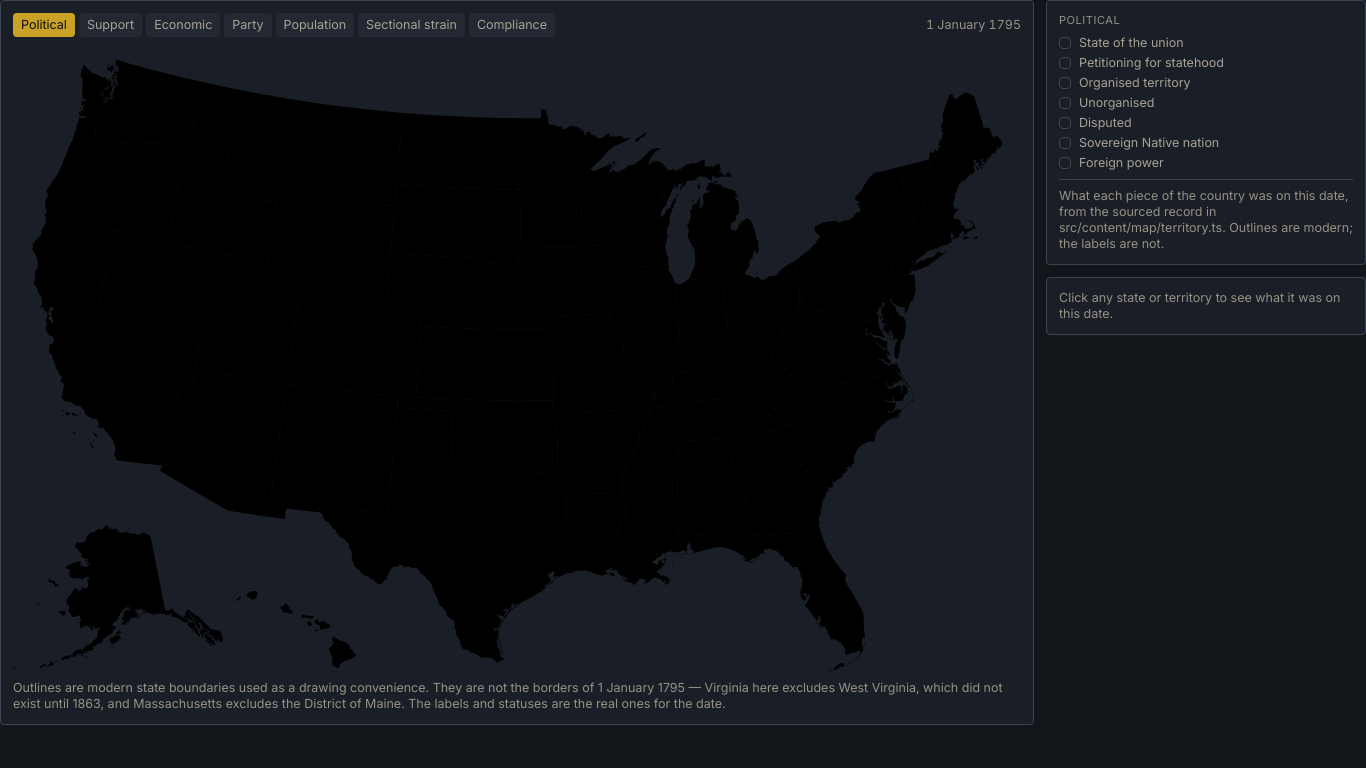
Test: the map states its own inaccuracy › says what each mode is actually measuring
Click the button "Support" at [110, 25], box [79,13,142,37]
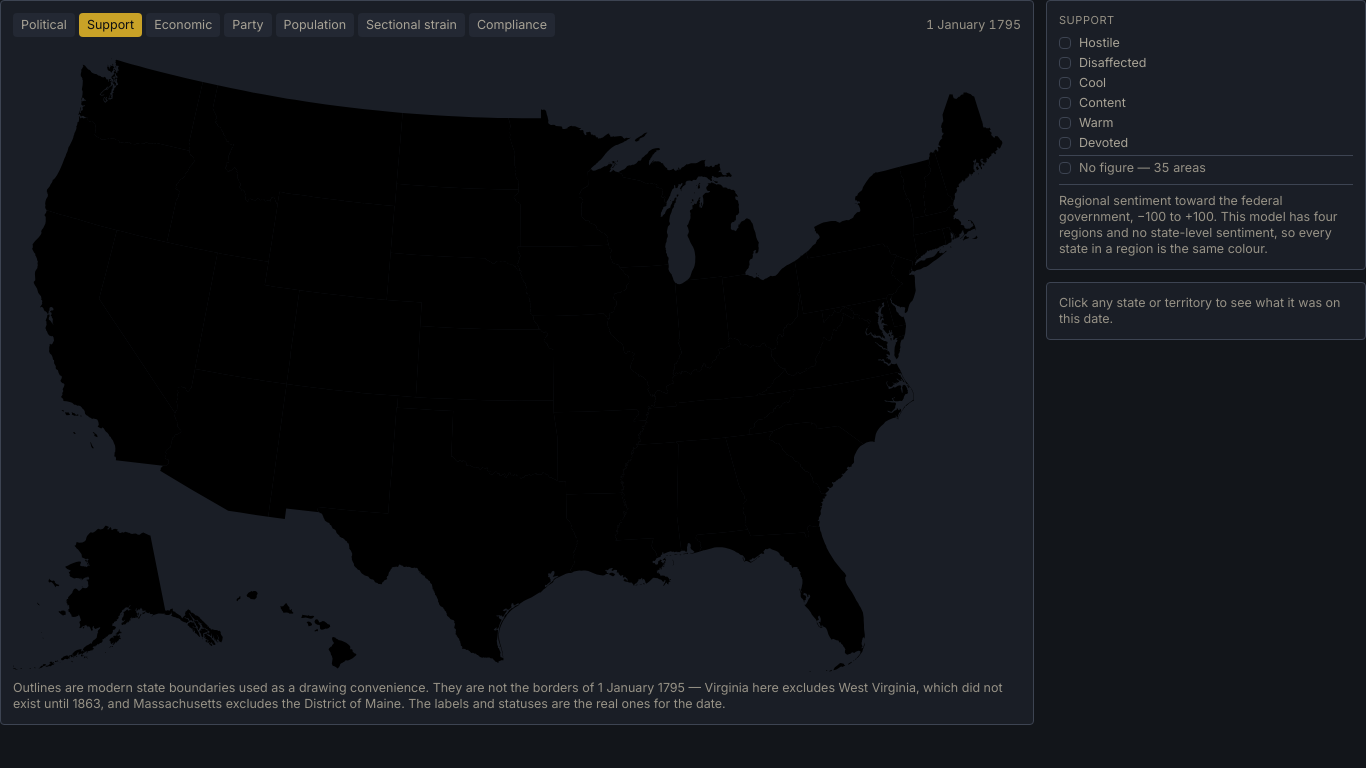
Expected: the element with test id "map-legend" shows "four regions", [1059,193,1338,256]
